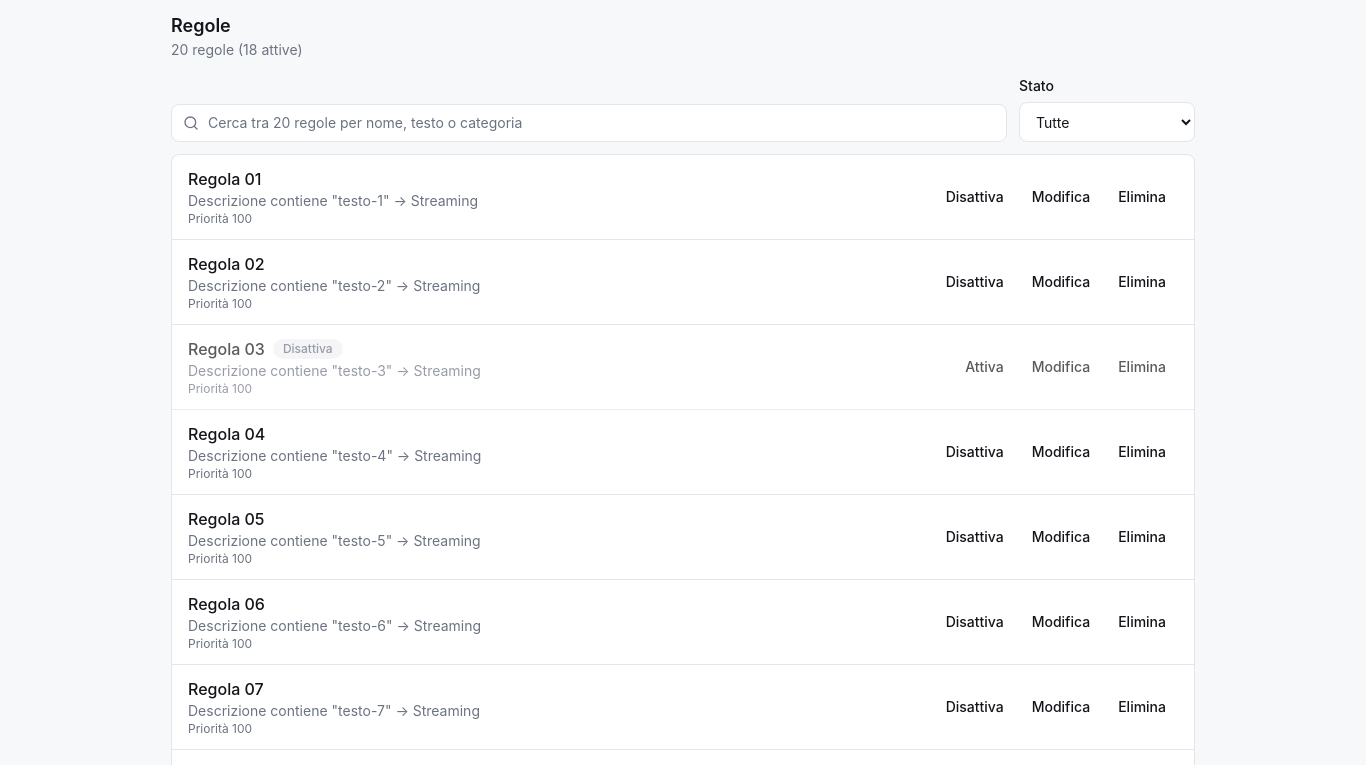
Test: RulesPage › il filtro per stato mostra solo le regole disattivate
The image size is (1366, 765).
Expected: the text "Regola 01" is shown, [188,167,262,191]
Expected: the text "20 regole (18 attive)" is shown, [171,41,302,58]
Select "Disattivate" in the dropdown labelled "Stato" at (1107, 122), box [1019,102,1195,142]
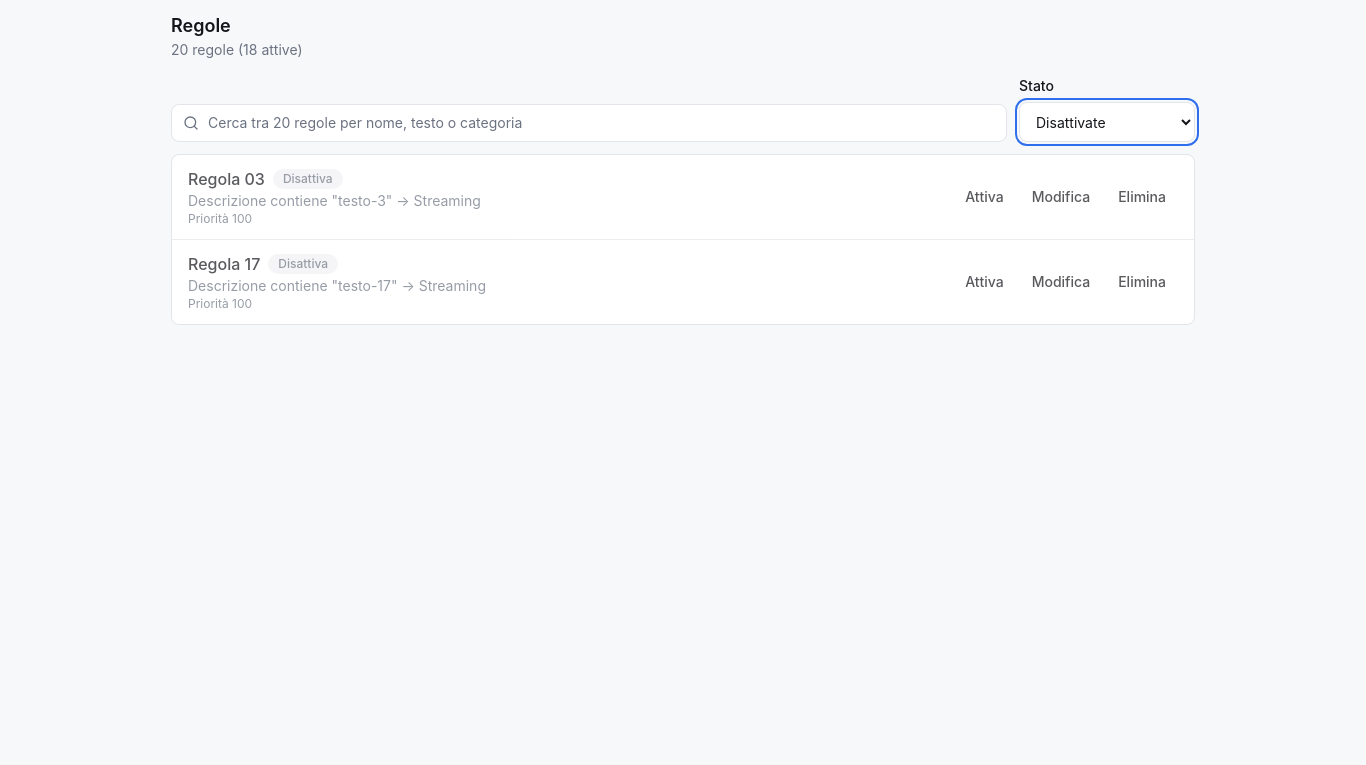
Expected: the text "Regola 03" is shown, [188,167,265,191]
Result: the number of list items is 2 at [172,155,1194,240]; [172,240,1194,324]
Result: the text "Regola 17" is shown at [188,252,260,276]
